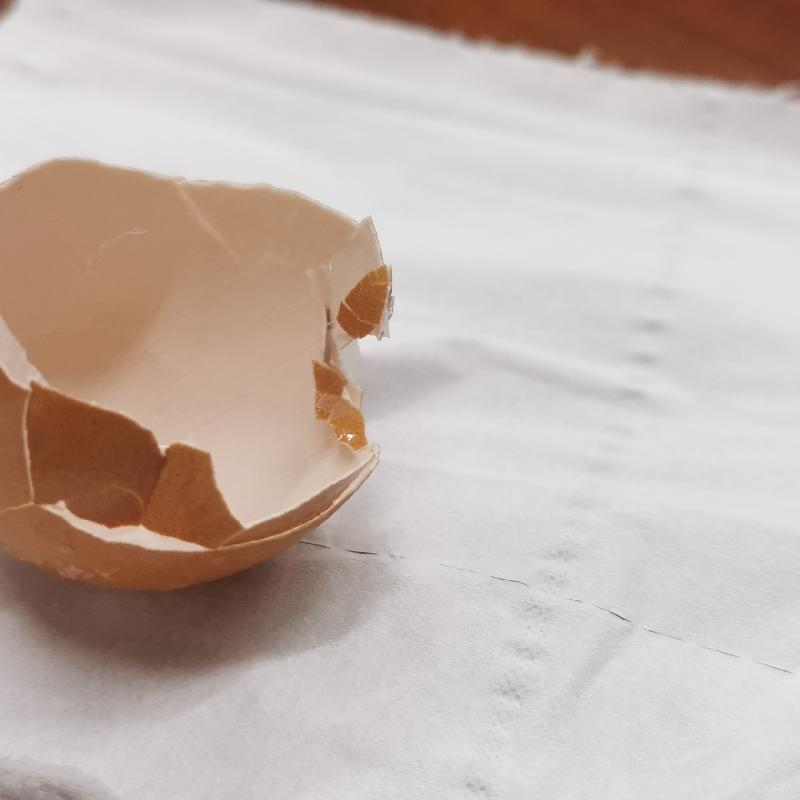eggshell: (6, 151, 394, 591)
